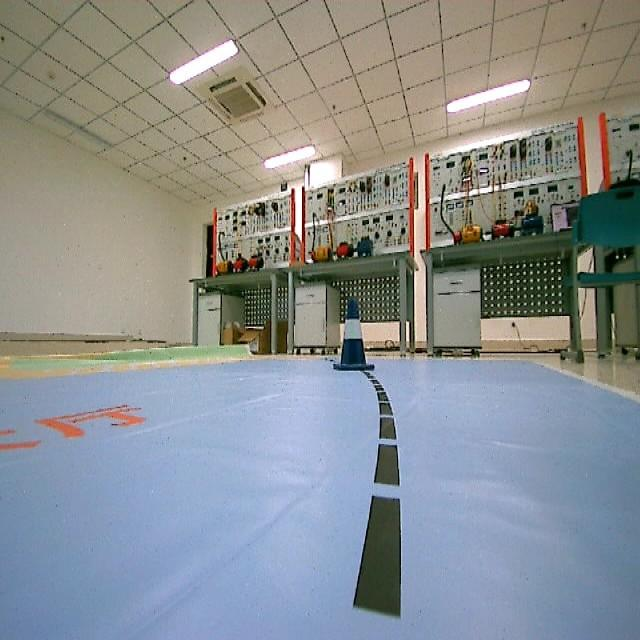obstacle: (329, 295, 376, 380)
